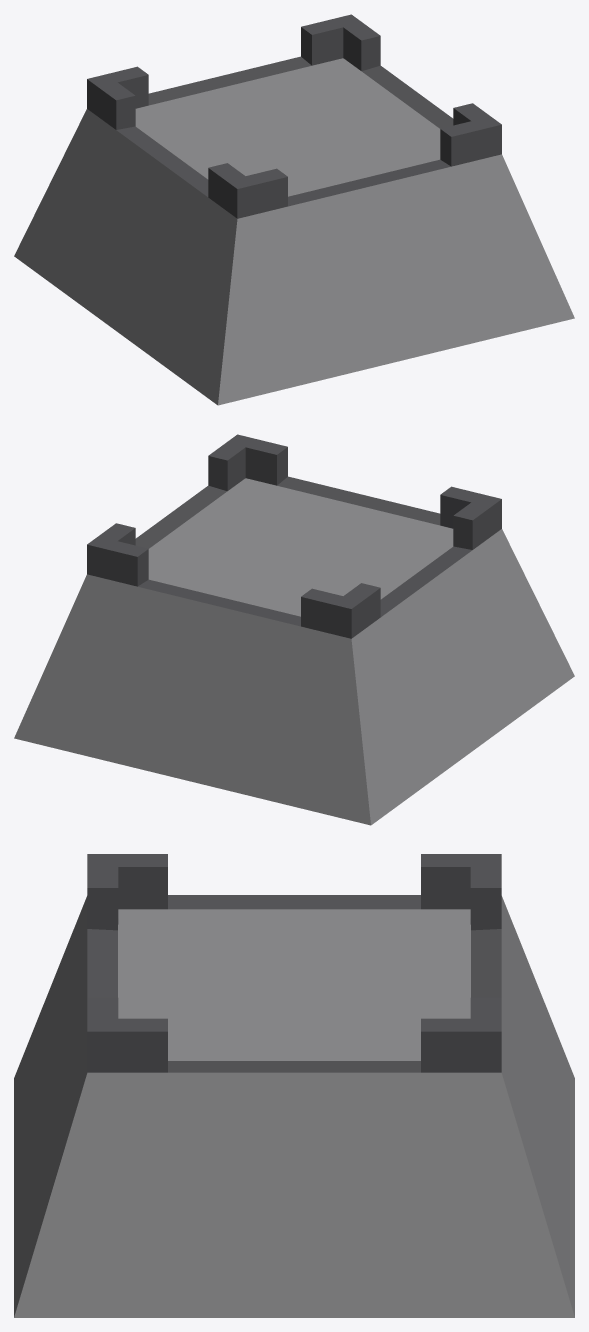
Rendered from Fort_Tiny2.fbx.
The picture shows the model from 3 angles, top to bottom: view 1: azimuth 30°, elevation 25°; view 2: azimuth 150°, elevation 25°; view 3: azimuth 270°, elevation 25°; orthographic projection. The views are drawn at different scales.
Parts seen in each view (by area): view 1: SM_Bld_Pirate_Fort_04; view 2: SM_Bld_Pirate_Fort_04; view 3: SM_Bld_Pirate_Fort_04.
Part boxes in pixels (box(x1,y1,x2,y2)): SM_Bld_Pirate_Fort_04: box(14, 14, 574, 405); SM_Bld_Pirate_Fort_04: box(14, 434, 574, 825); SM_Bld_Pirate_Fort_04: box(14, 854, 574, 1317).
Size of the model in its own units: 169 by 84.11 by 168.
